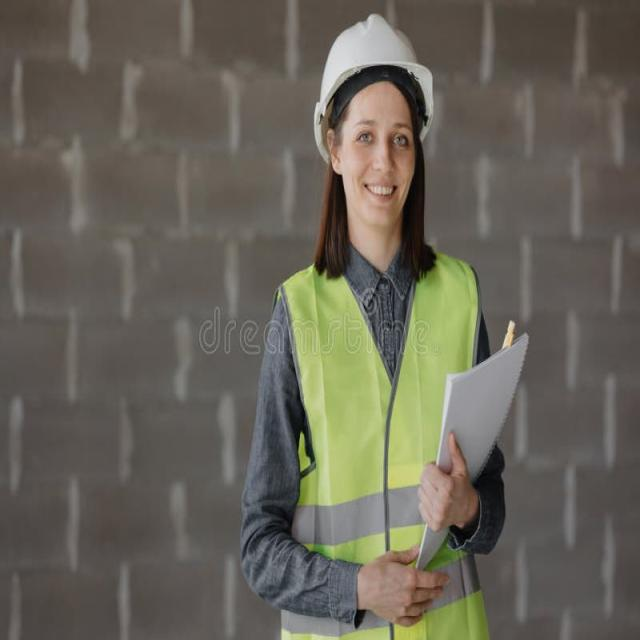helmet: (309, 24, 453, 169)
no-goggles: (330, 101, 430, 169)
vest: (271, 258, 488, 640)
